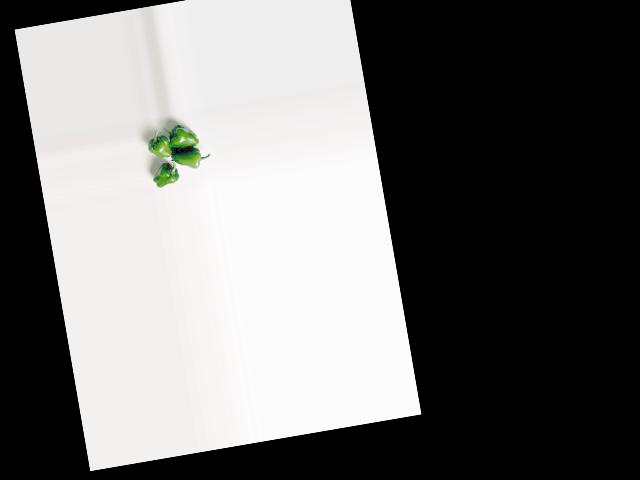bell_pepper: (145, 129, 171, 162)
